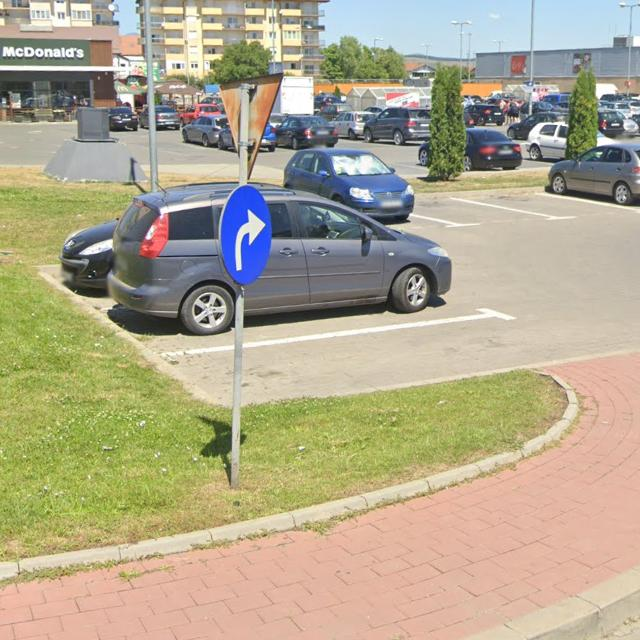mand_right: (218, 183, 275, 285)
